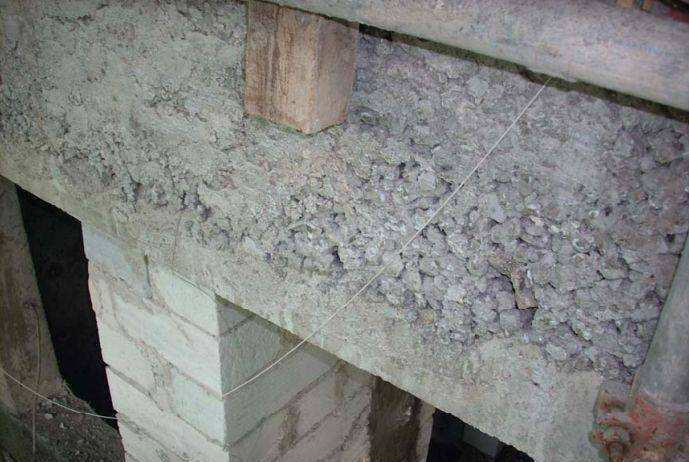Spalling: (1, 1, 689, 390)
